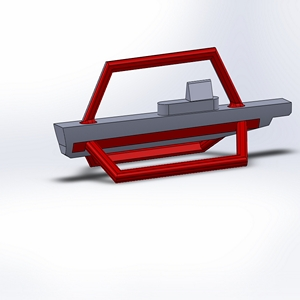submarine: (38, 26, 300, 193)
